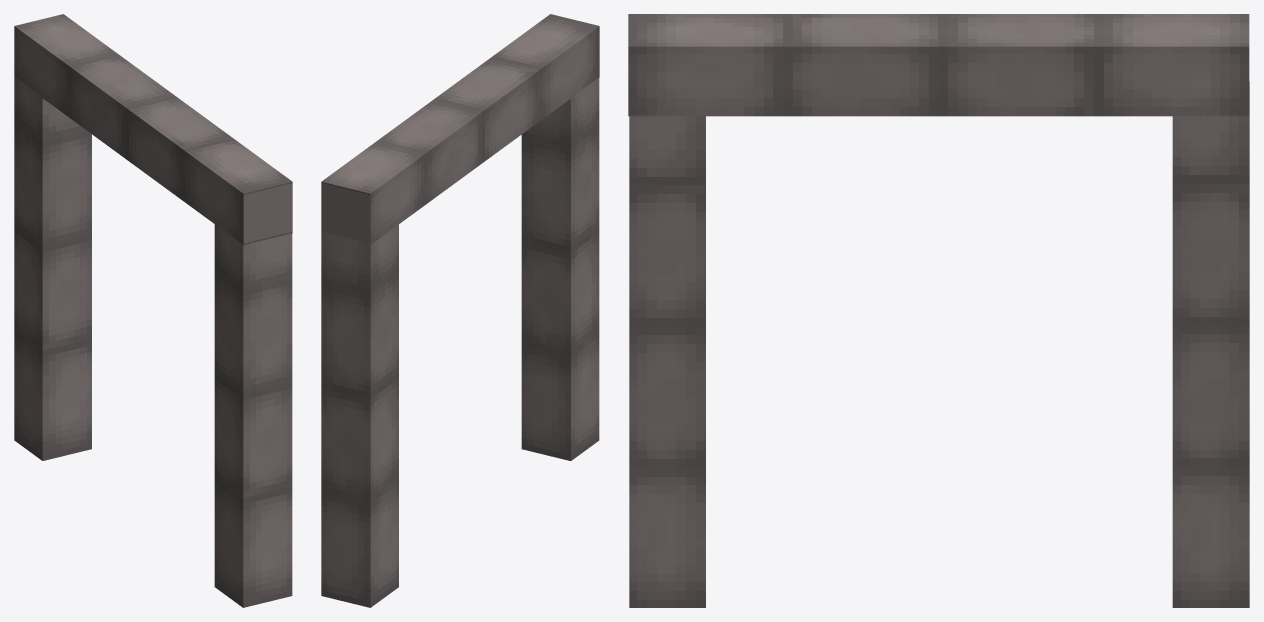
File: door-frame-basic-test.fbx
3 views of the same model, side by side, from view 1: azimuth 30°, elevation 25°; view 2: azimuth 150°, elevation 25°; view 3: azimuth 270°, elevation 25° (orthographic). The views are drawn at different scales.
Visible parts, largest first — view 1: group2; view 2: group2; view 3: group2.
Boxes of the visible parts, <box> form: group2: <box>14,14,292,607</box>; group2: <box>321,14,599,607</box>; group2: <box>628,14,1249,607</box>.
Bounding box in the file's own units: 0.124 × 0.9978 × 1.
